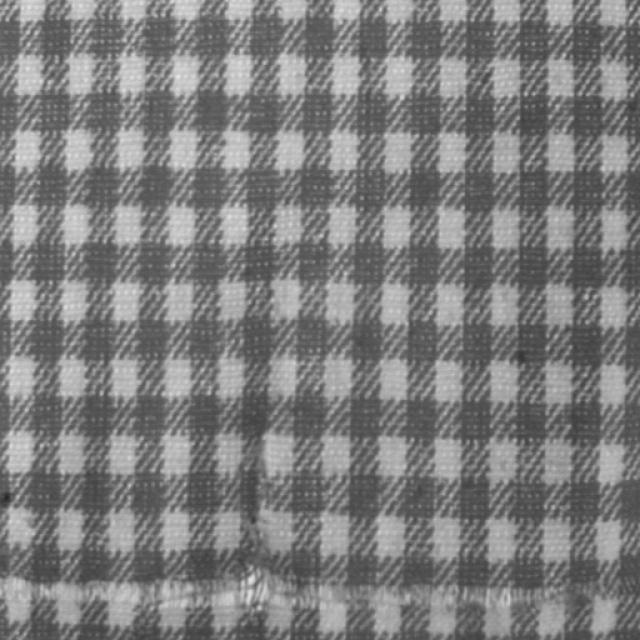Thread-Defect: (5, 560, 633, 614)
